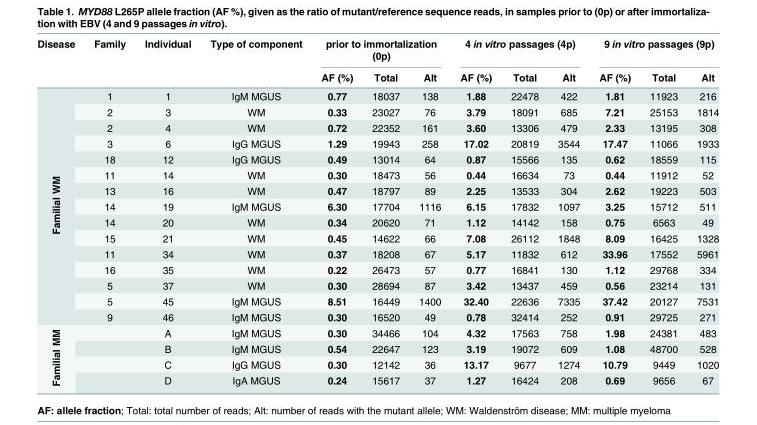table: (36, 37, 718, 385)
table column: (199, 37, 311, 385), (134, 37, 199, 385), (83, 37, 134, 385), (449, 37, 500, 385), (588, 37, 639, 385), (311, 37, 361, 385), (36, 37, 83, 385), (361, 37, 408, 385), (500, 37, 547, 385), (639, 37, 686, 385), (408, 37, 449, 385), (547, 37, 588, 385), (686, 37, 718, 385)
table column header: (36, 37, 718, 86)
table row: (36, 37, 718, 65), (36, 65, 718, 86), (36, 86, 718, 103), (36, 103, 718, 119), (36, 119, 718, 135), (36, 150, 718, 166), (36, 166, 718, 182), (36, 182, 718, 198), (36, 213, 718, 229), (36, 229, 718, 245), (36, 245, 718, 261), (36, 261, 718, 277), (36, 292, 718, 308), (36, 308, 718, 324), (36, 324, 718, 340), (36, 340, 718, 356), (36, 135, 718, 150), (36, 198, 718, 213), (36, 277, 718, 292), (36, 356, 718, 371), (36, 371, 718, 385)
table spanning cell: (36, 86, 83, 324), (199, 37, 311, 86), (449, 37, 588, 65), (311, 37, 449, 65), (588, 37, 718, 65), (134, 37, 199, 86), (36, 324, 83, 385), (83, 37, 134, 86), (36, 37, 83, 86)
